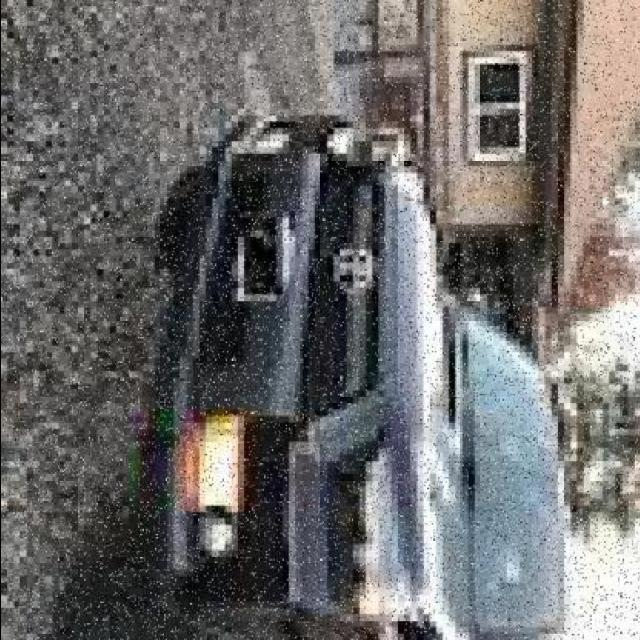Headlight-Damage: (268, 428, 422, 627)
